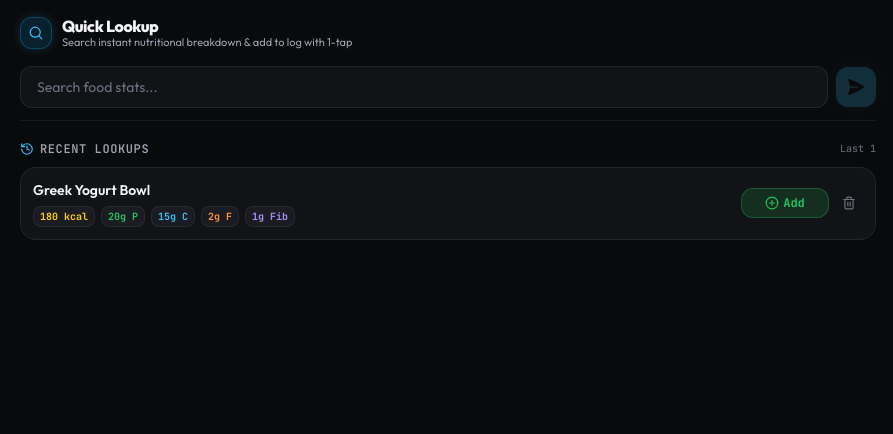
Test: LookupPanel Component › allows deleting an item from lookup history
This screenshot has width=893, height=434.
Expected: the text "Greek Yogurt Bowl" is shown, [33,181,150,199]
Click the button titled "delete from history" at [849, 203], box [835,189,863,217]
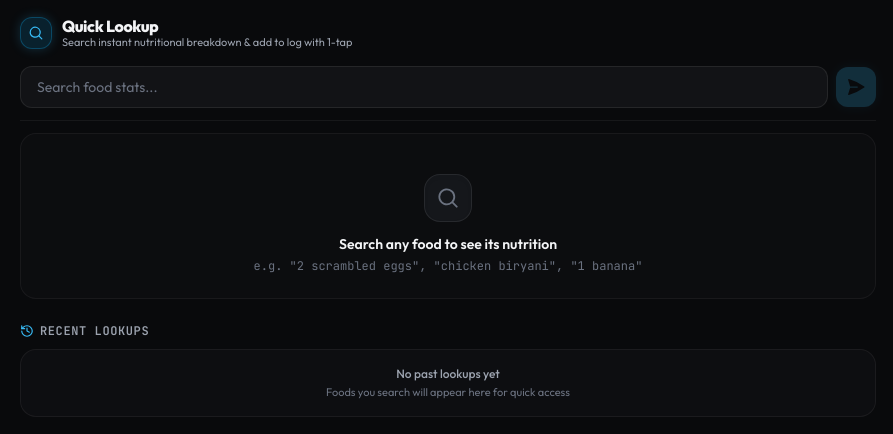
Result: the text "Greek Yogurt Bowl" is gone
